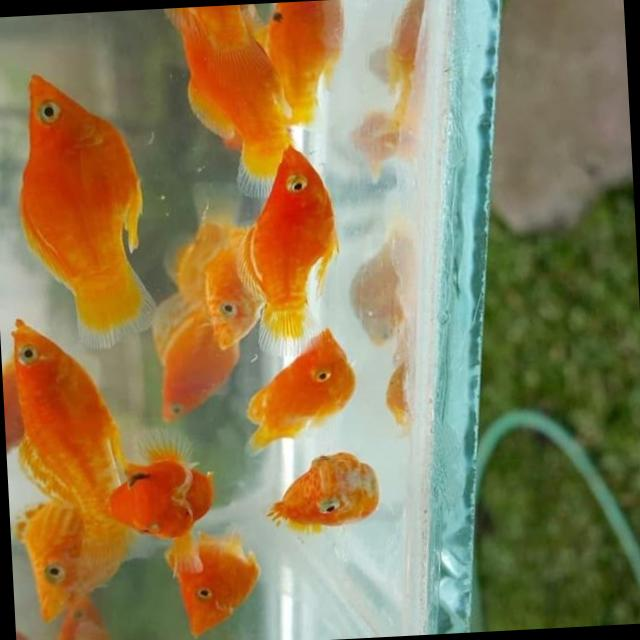PlatyFish: (0, 57, 163, 355), (5, 304, 133, 566), (234, 129, 360, 343), (222, 312, 381, 468), (156, 525, 271, 640), (266, 450, 394, 540)
